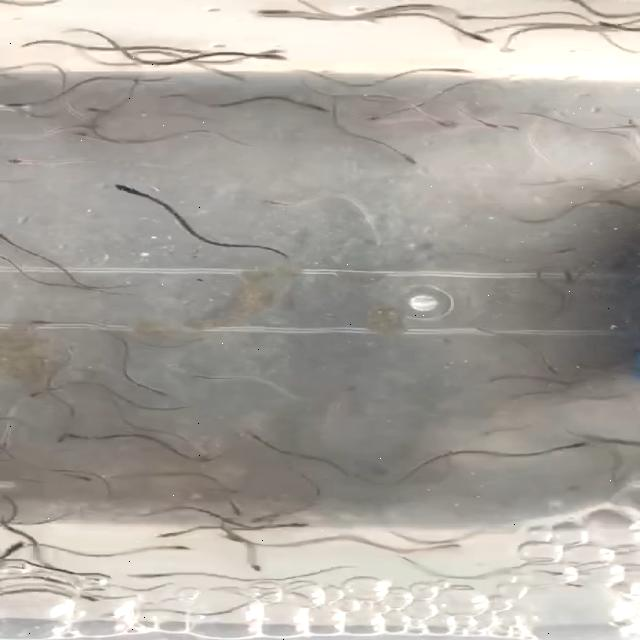active_glass_eel: (100, 175, 148, 205), (113, 70, 165, 94), (130, 378, 178, 400), (422, 60, 484, 77), (283, 96, 335, 116), (438, 5, 496, 22), (230, 426, 273, 448), (272, 516, 324, 534), (388, 144, 426, 167), (451, 26, 489, 48), (249, 5, 289, 24), (166, 544, 212, 560), (254, 45, 290, 65), (0, 98, 40, 116), (367, 114, 399, 136), (0, 152, 34, 172), (228, 557, 270, 573), (0, 253, 35, 272), (0, 540, 33, 560), (80, 569, 124, 583), (157, 528, 198, 543), (563, 438, 597, 456), (262, 198, 312, 210), (22, 318, 72, 330), (598, 119, 640, 131), (480, 120, 510, 136), (49, 426, 79, 441), (192, 373, 224, 387), (68, 468, 100, 482), (32, 384, 58, 400), (80, 100, 108, 114), (72, 131, 100, 145), (1, 232, 20, 242), (424, 119, 447, 127)
